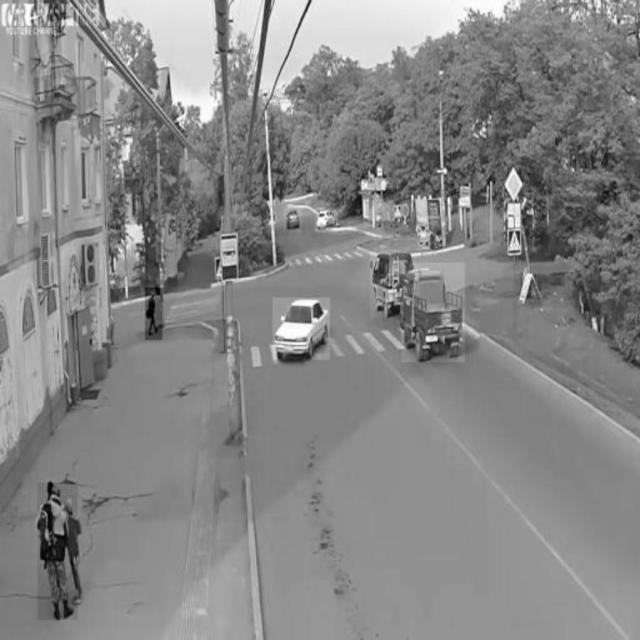person: (38, 483, 78, 620), (144, 289, 162, 341)
vehicle: (401, 262, 465, 362), (273, 297, 330, 361), (369, 247, 410, 318), (315, 207, 339, 232), (284, 207, 302, 232)
